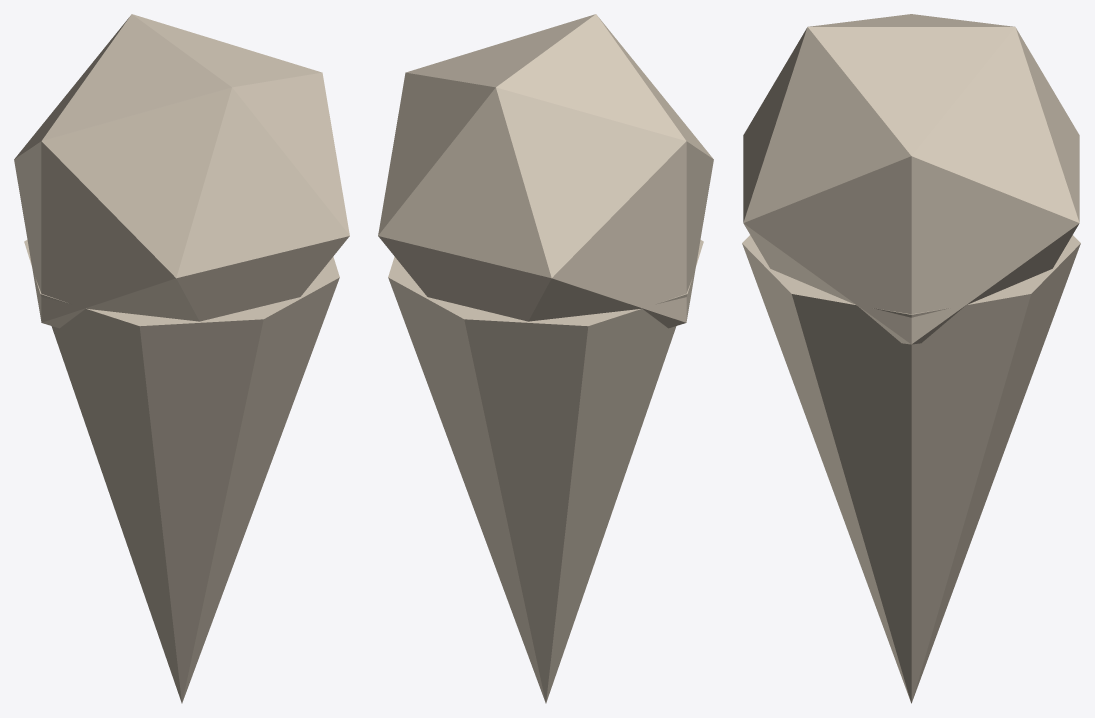
3 views of the same model, side by side, from view 1: azimuth 30°, elevation 25°; view 2: azimuth 150°, elevation 25°; view 3: azimuth 270°, elevation 25° (orthographic). The views are drawn at different scales.
Parts seen in each view (by area): view 1: part1, part0; view 2: part1, part0; view 3: part1, part0.
Boxes of the visible parts, x1,y1,x2,y2 form: part1: (14, 14, 349, 328); part0: (24, 240, 339, 703); part1: (378, 14, 713, 328); part0: (388, 240, 703, 703); part1: (743, 14, 1079, 344); part0: (742, 235, 1080, 703).
Bounding box in the file's own units: 1.2 × 2.65 × 1.2.
